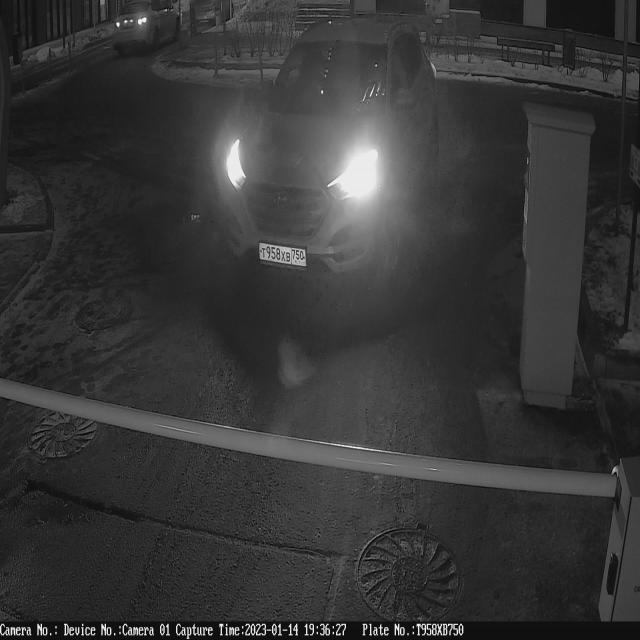car-plate-numbers: (259, 239, 310, 275)
